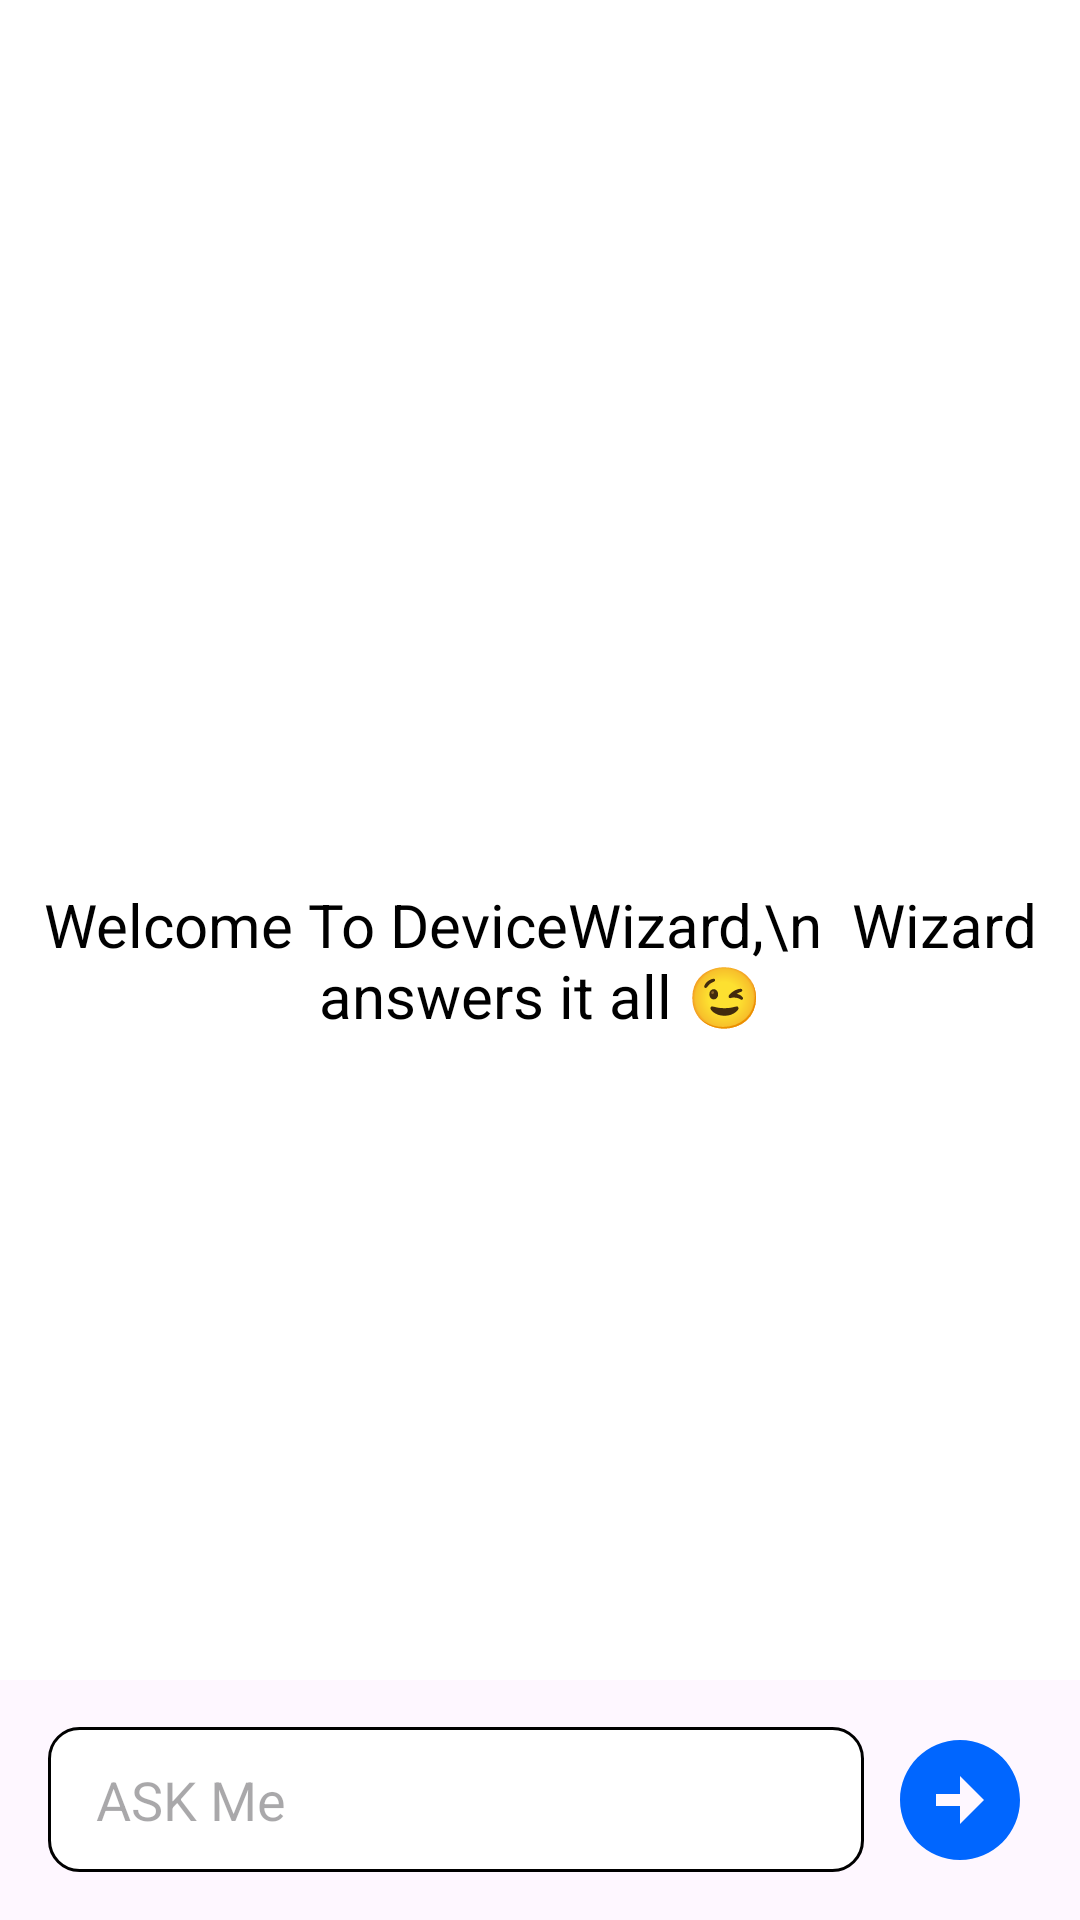

Icon bounding boxes for this 1080px x 1920px phone screenshot, format (x1, y1, x2, y2):
arrow circle right: (900, 1740, 1020, 1860)
